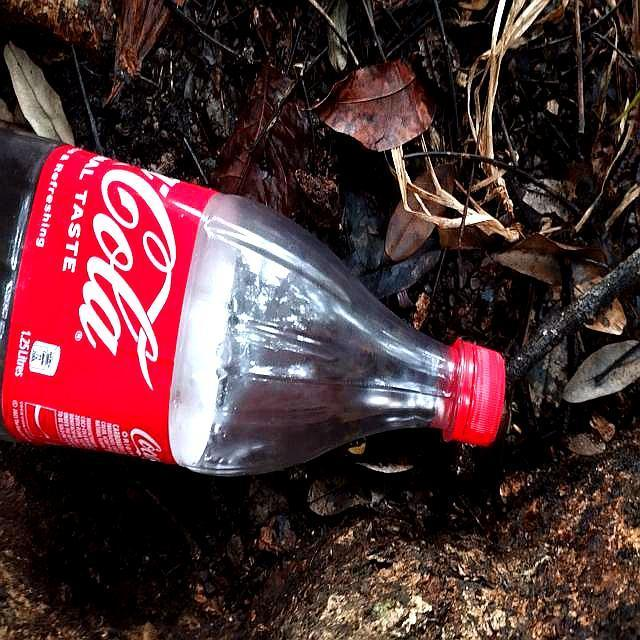Non-biodegradable: (5, 131, 509, 485)
